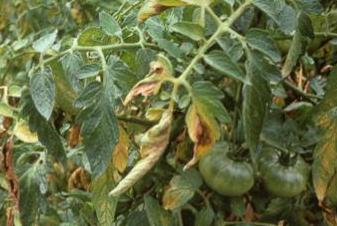Tomato Early blight leaf: (107, 103, 177, 195), (183, 78, 222, 168), (310, 108, 337, 226), (116, 57, 174, 104), (280, 7, 315, 79), (131, 0, 210, 24)
Tomato leaf: (240, 55, 278, 158), (81, 80, 120, 175), (32, 65, 55, 121)
